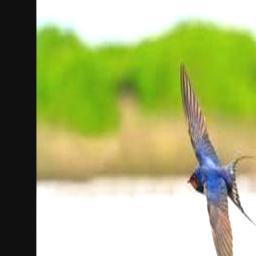Swallow: (180, 59, 256, 256)
